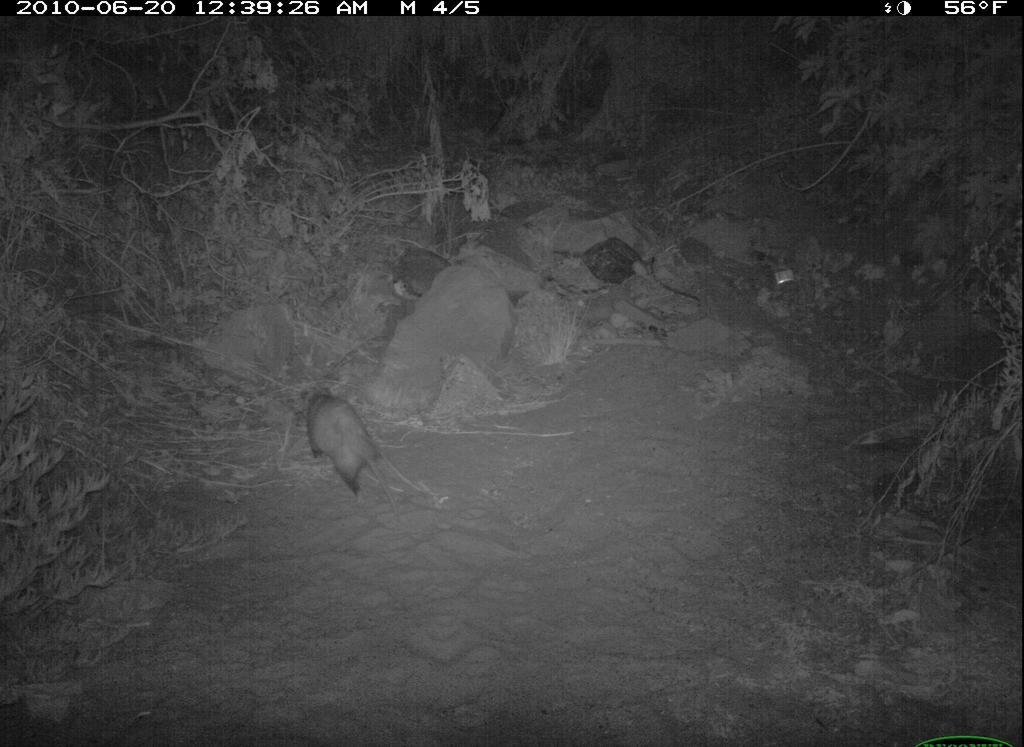opossum: (292, 380, 410, 519)
